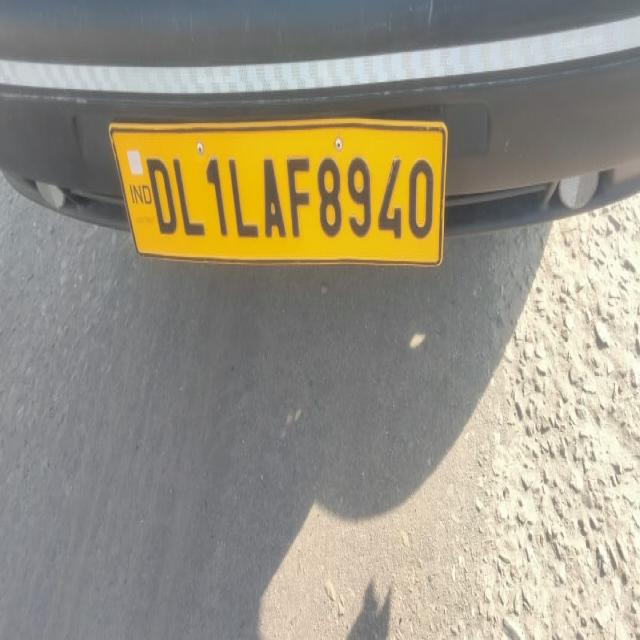License-plate: (130, 116, 445, 263)
